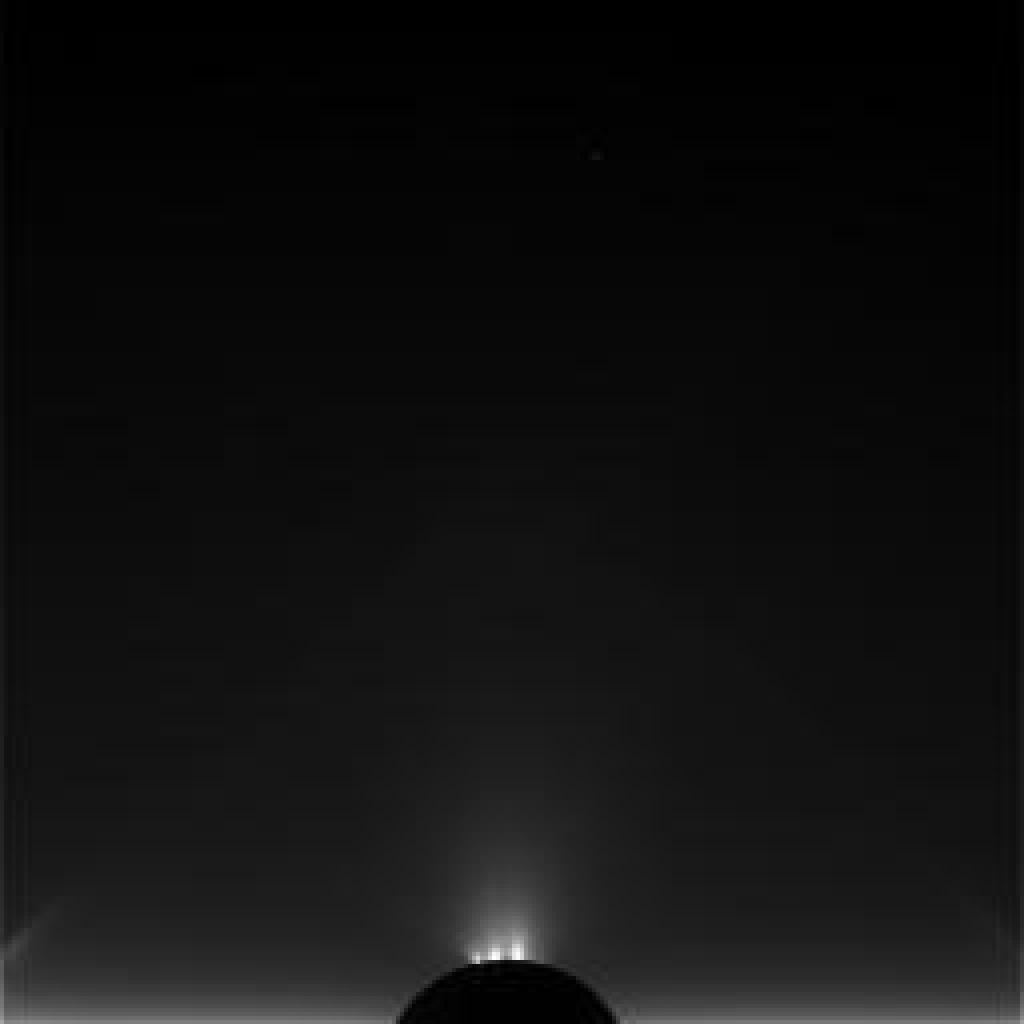plumes: (457, 867, 538, 966)
